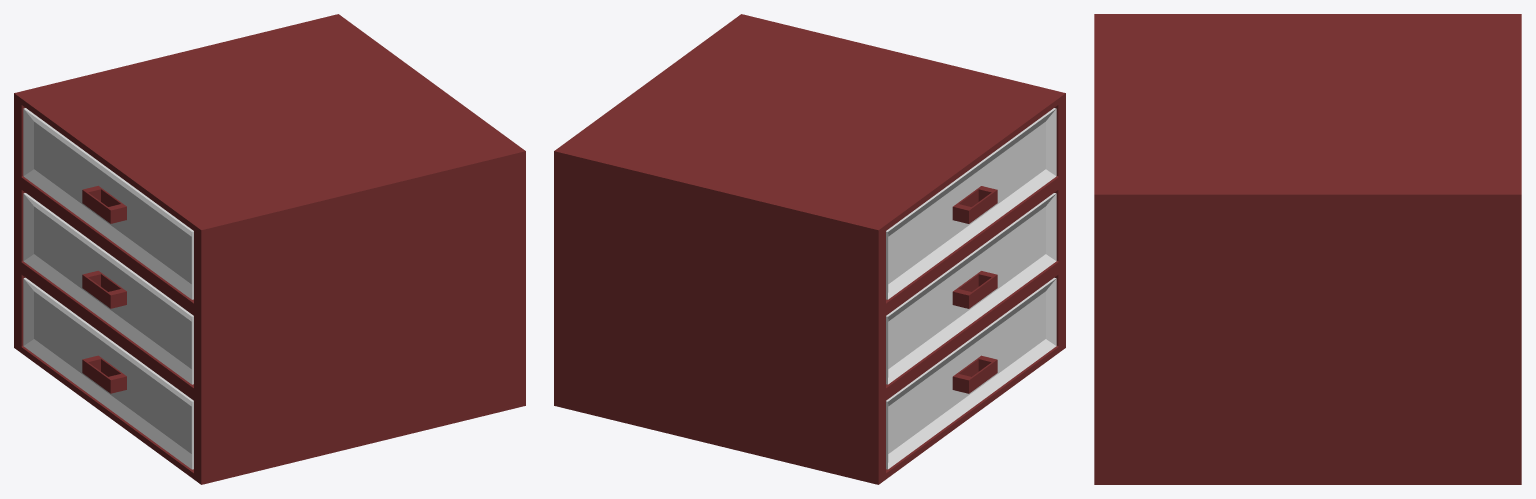
The model's file is nightStand.glb.
3 renders of one model, left to right at view 1: azimuth 30°, elevation 25°; view 2: azimuth 150°, elevation 25°; view 3: azimuth 270°, elevation 25°, orthographic. The views are drawn at different scales.
Parts seen in each view (by area): view 1: Cube; view 2: Cube; view 3: Cube.
Boxes of the visible parts, x1,y1,x2,y2 form: Cube: [14, 14, 525, 484]; Cube: [554, 14, 1065, 484]; Cube: [1094, 14, 1521, 484].
Bounding box in the file's own units: 2.07 × 1.5 × 2.
